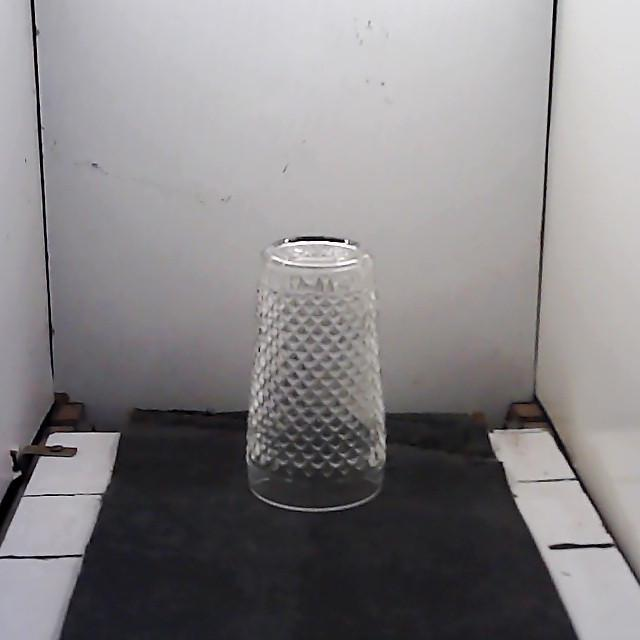vidro: (247, 236, 385, 510)
